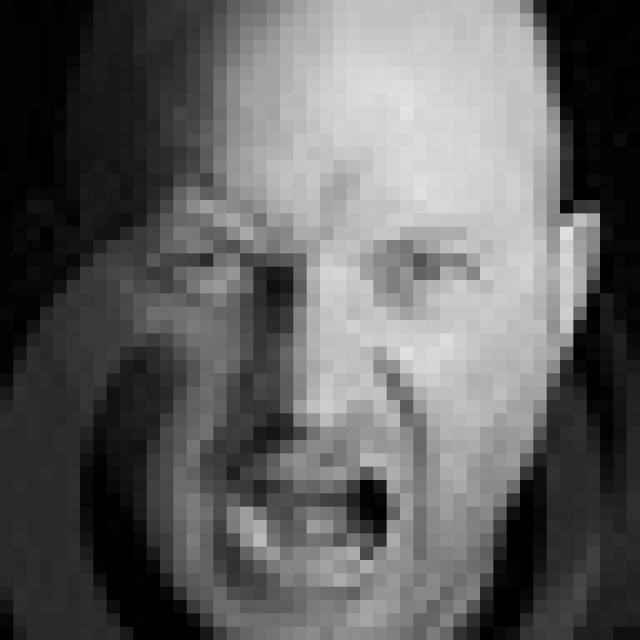angry: (164, 166, 508, 640)
